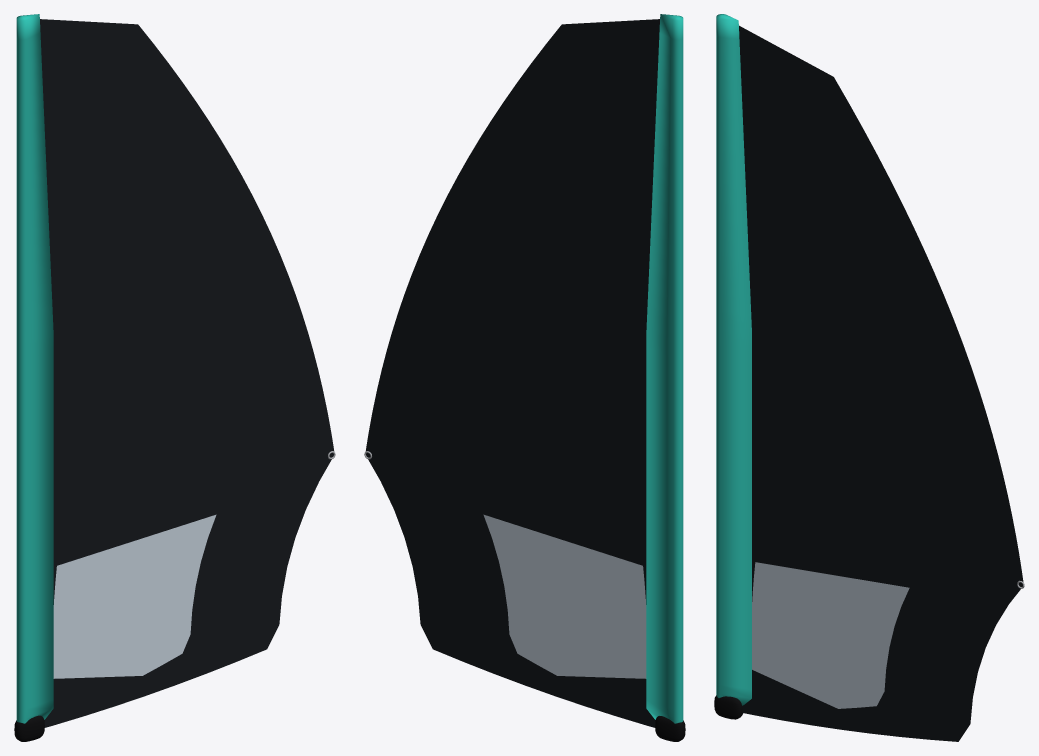
Rendered from tripletone_slalom_6_7.glb.
3 views of the same model, side by side, from view 1: azimuth 30°, elevation 25°; view 2: azimuth 150°, elevation 25°; view 3: azimuth 330°, elevation 25° (orthographic). The views are drawn at different scales.
Parts seen in each view (by area): view 1: SailCloth, TackFairing; view 2: SailCloth, TackFairing; view 3: SailCloth, TackFairing.
Boxes of the visible parts, left/top/right/bottom form: SailCloth: left=16, top=14, right=334, bottom=727; TackFairing: left=14, top=715, right=44, bottom=741; SailCloth: left=365, top=14, right=683, bottom=727; TackFairing: left=655, top=716, right=685, bottom=741; SailCloth: left=716, top=14, right=1023, bottom=741; TackFairing: left=714, top=695, right=743, bottom=719.
Bounding box in the file's own units: 2.07 × 4.49 × 0.08.
